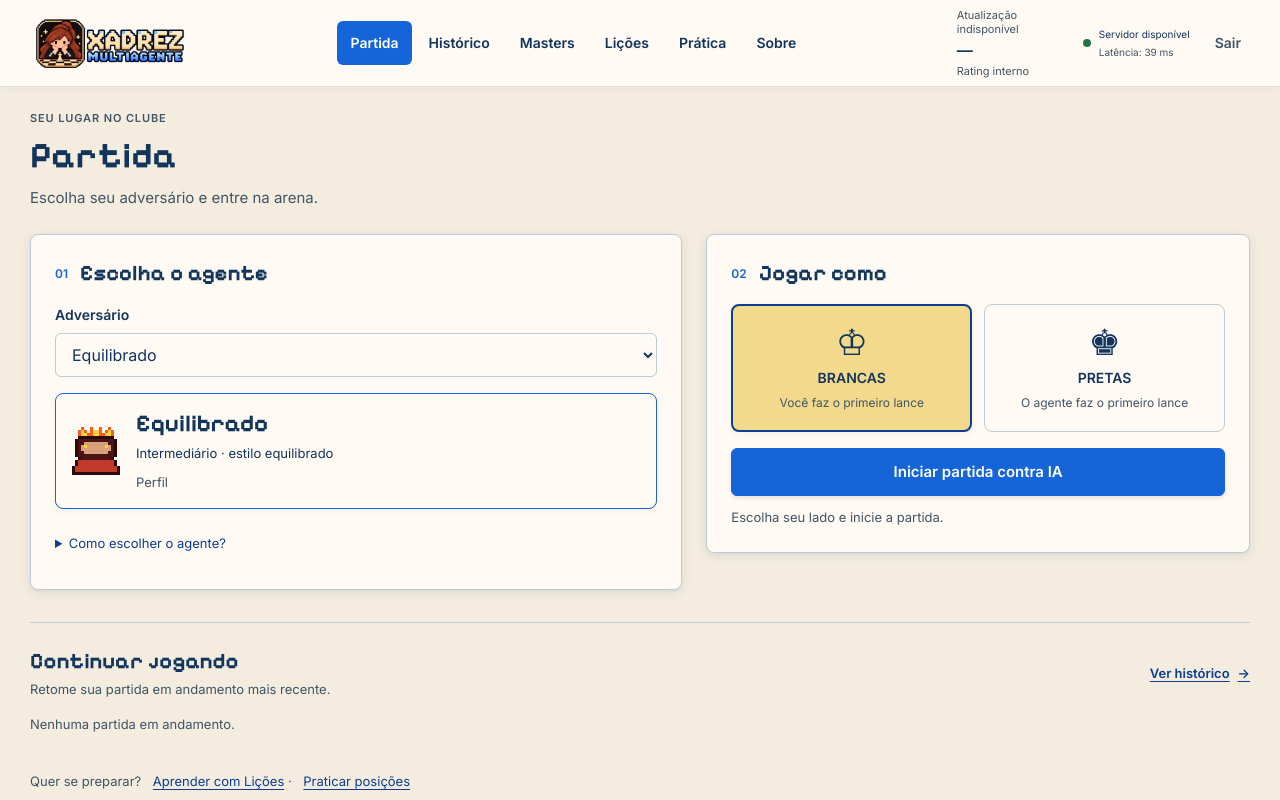
Test case: erro 503 não altera Game nem apresenta conversa de outro contexto
Click the button "Iniciar partida contra IA". click: click(978, 472)
box: [731,448,1225,496]
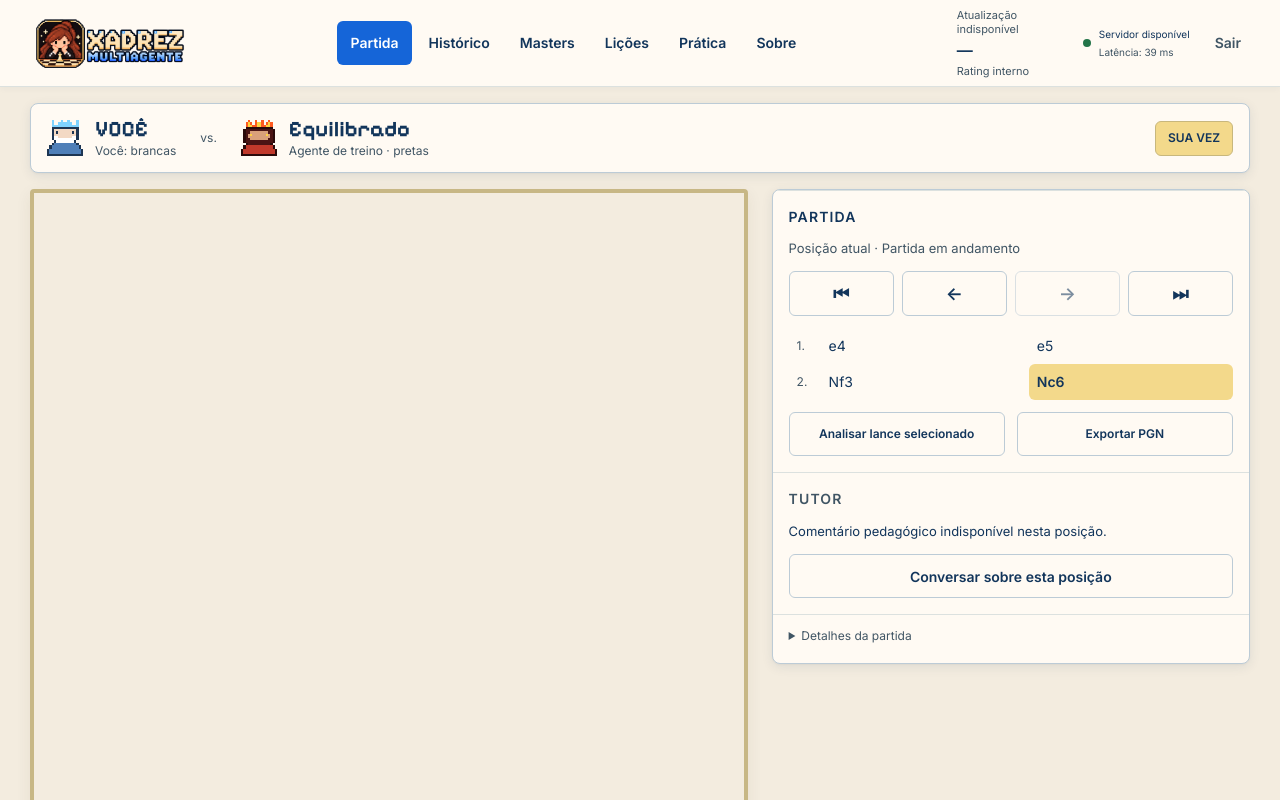
Expected: the heading "Partida" is shown, [789,208,856,226]
Click the button "Conversar sobre esta posição". click: click(1011, 576)
box: [789,554,1233,598]
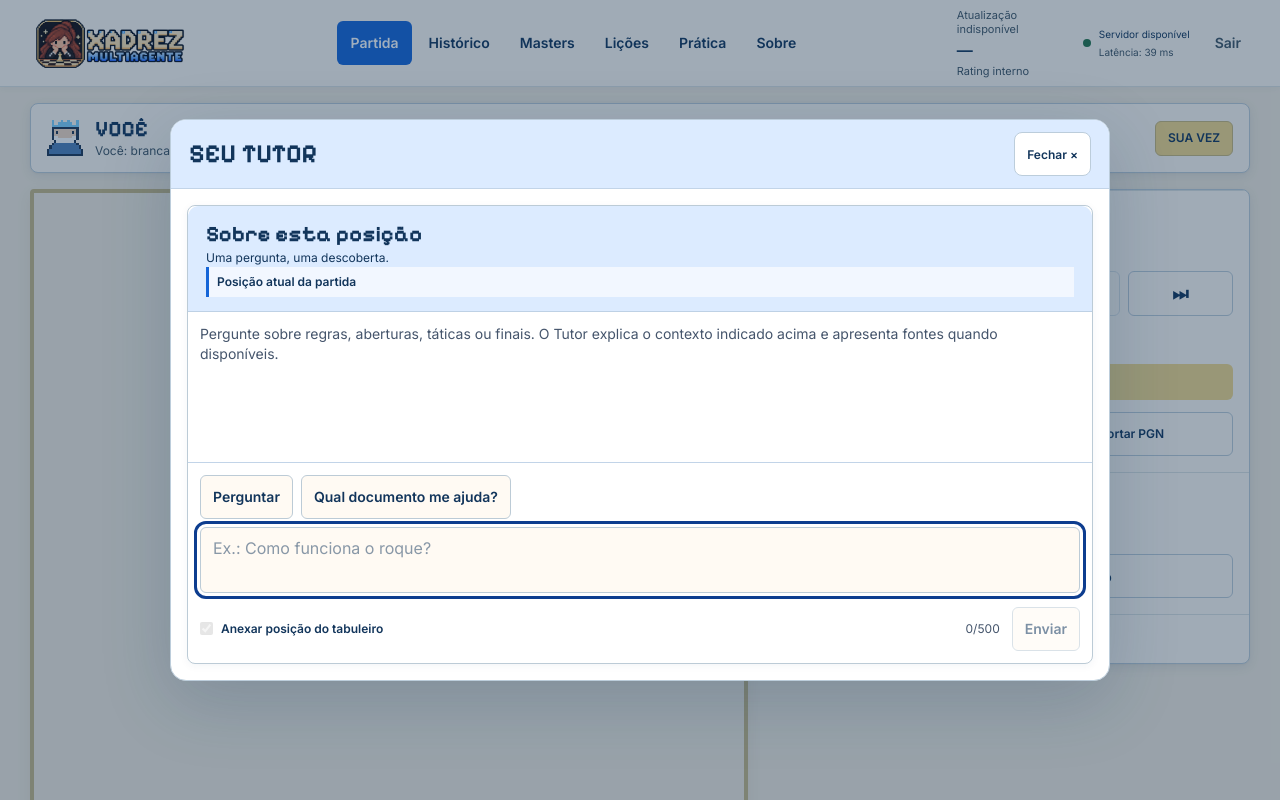
Expected: the dialog "SEU TUTOR" is shown, [170,119,1110,681]
Type "Explique" into the text box named "Sua pergunta". click: (640, 560)
box: [200,527,1080,593]
Click the button "Enviar". click: click(1046, 629)
box: [1012,607,1080,651]
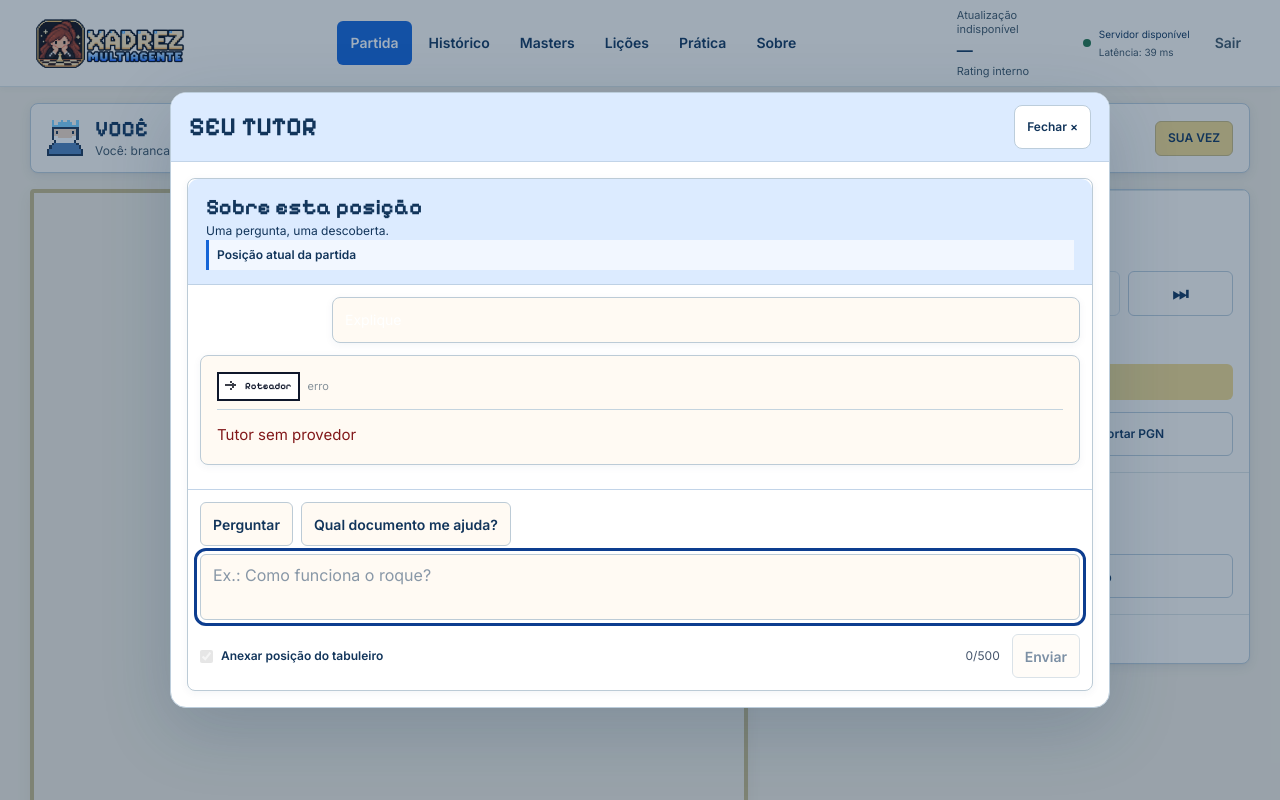
Expected: the text "Tutor sem provedor" is shown, [217,425,356,444]
Press Escape in the dialog "SEU TUTOR", box [170,92,1110,708]
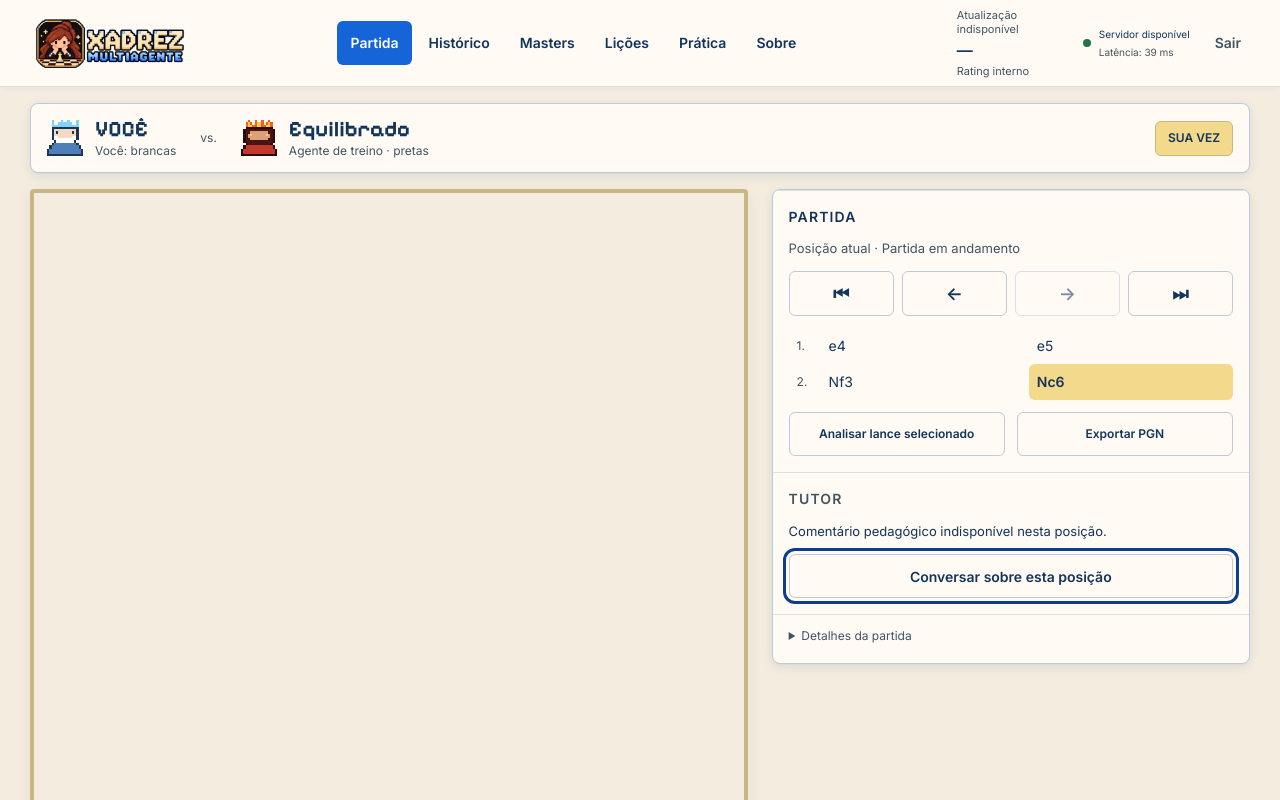
Click the button named "Lance anterior". click: click(954, 294)
box: [902,271,1007,316]
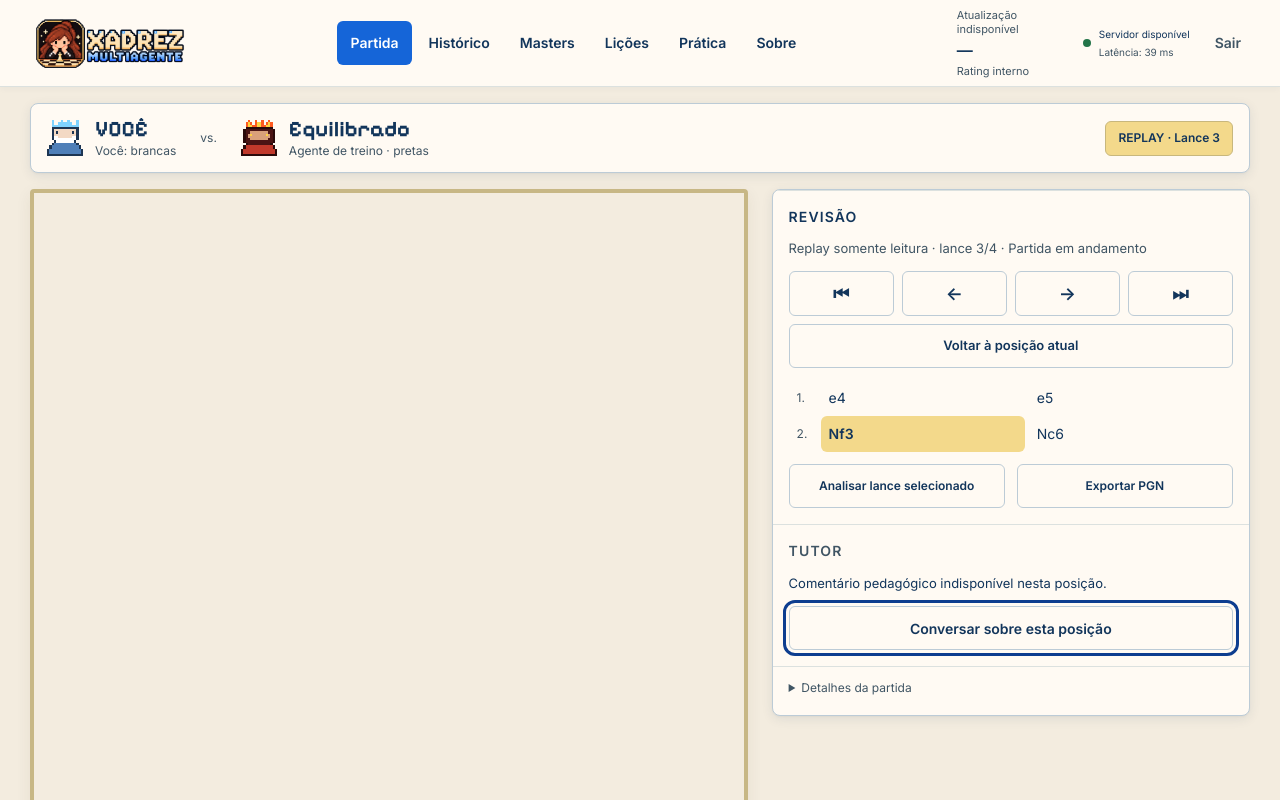
Click the button "Conversar sobre esta posição". click: click(1011, 628)
box: [789,606,1233,650]
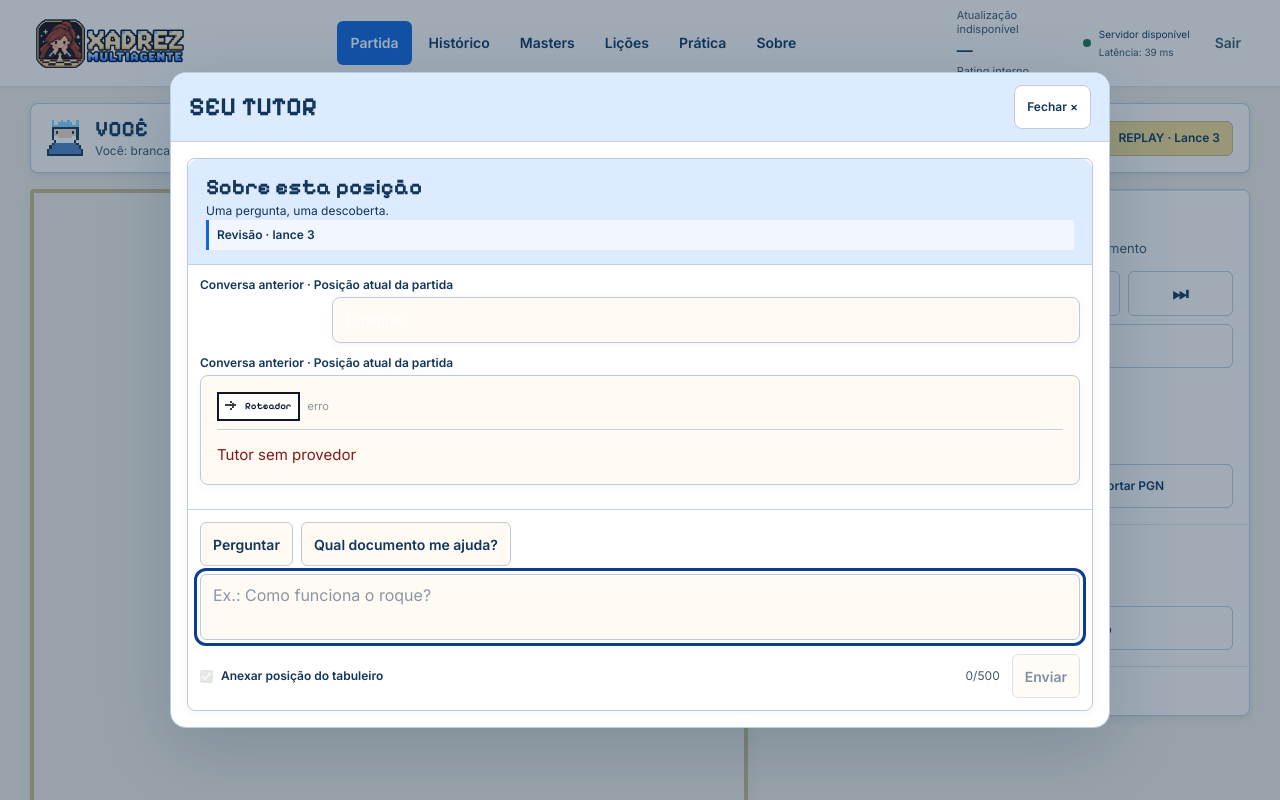
Expected: the dialog "SEU TUTOR" is shown
Expected: the 1st text "Conversa anterior · Posição atual da partida" is shown, [200,276,453,292]
